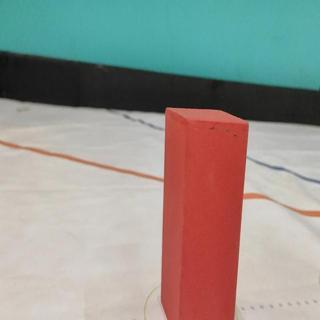redbox: (159, 107, 249, 320)
